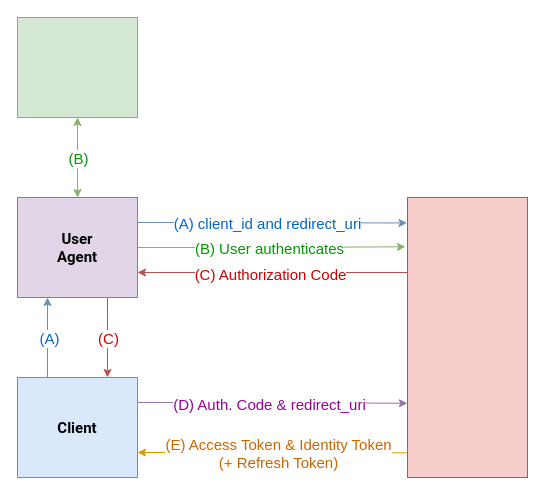
The diagram is 545 pixels wide and 495 high, and some of its shapes have lost their labels. The shapes that lost their labels are listed below. From the top down, each one's centre as x and y in pixels, then its label:
At point (77, 67): "Resource Owner".
At point (467, 337): "Authorization Server".
